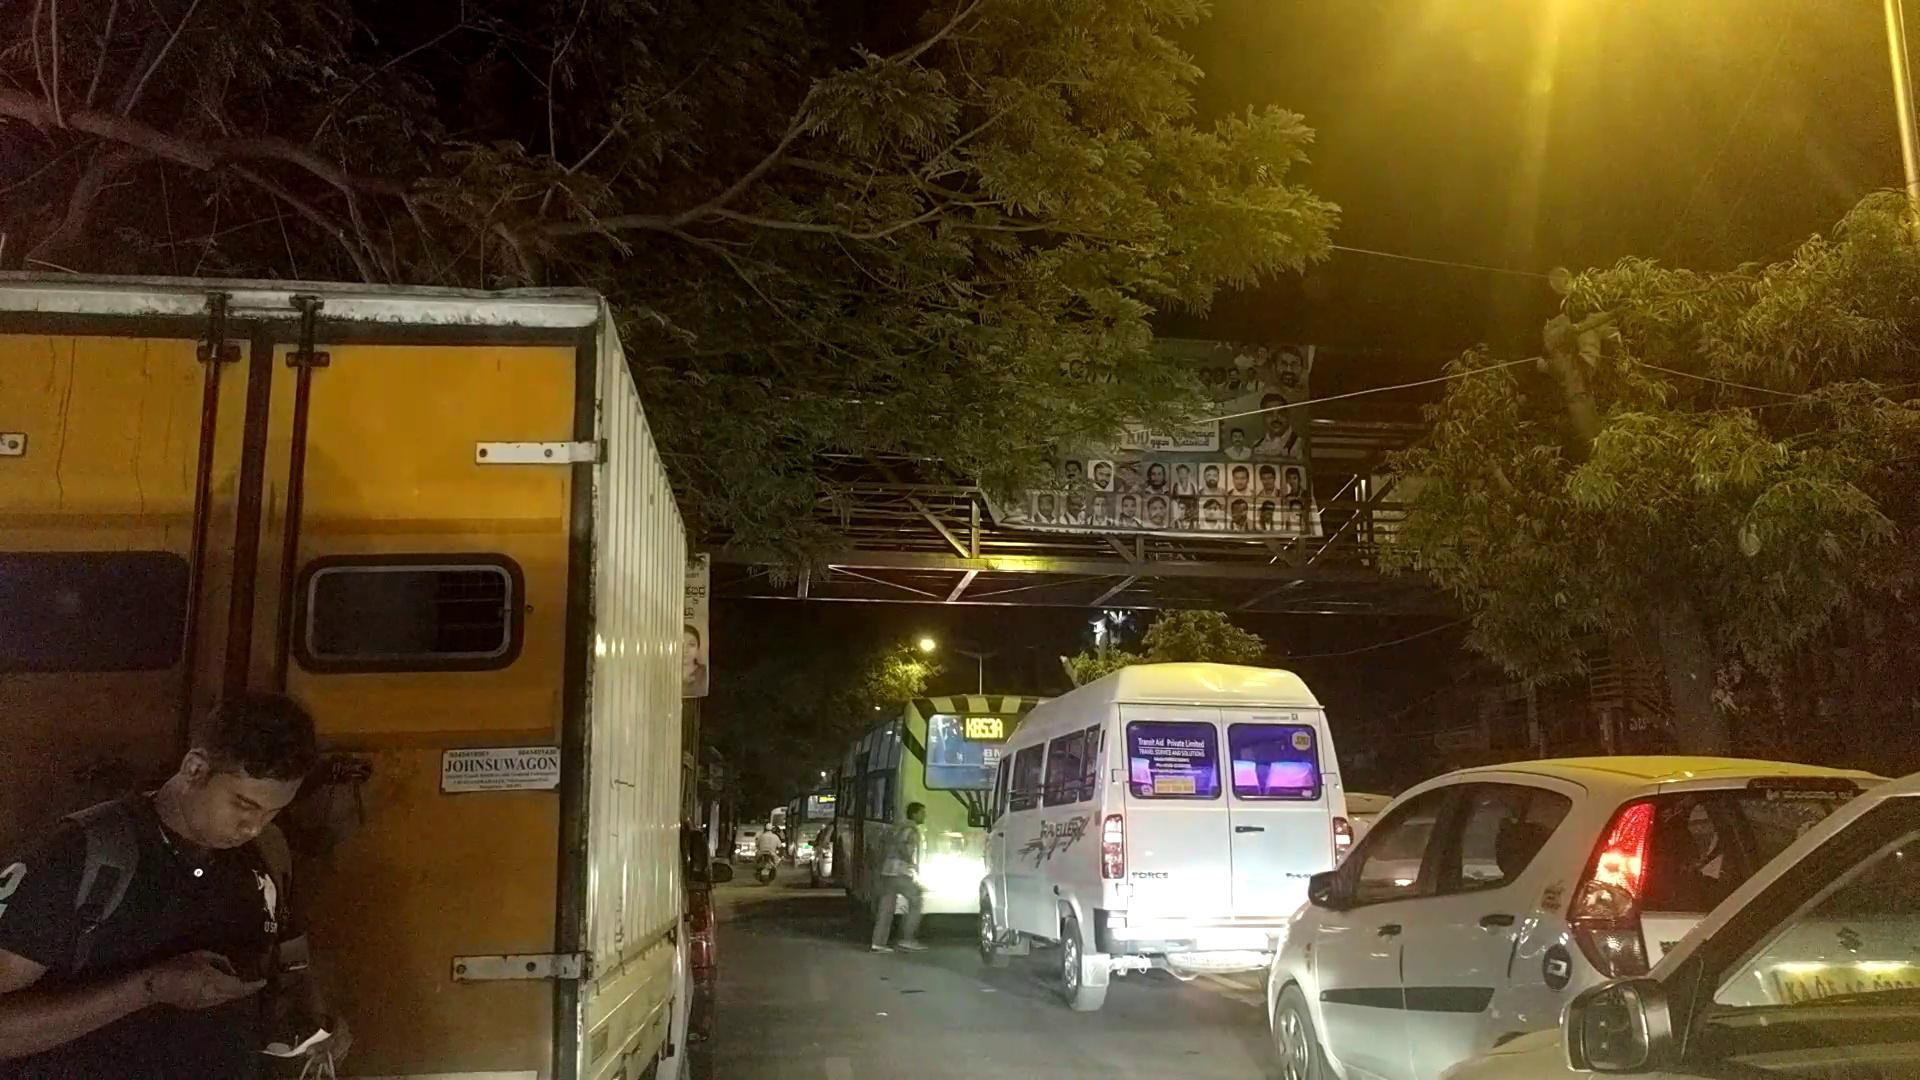on: (80, 12, 1920, 1080)
